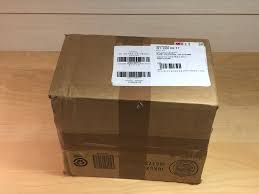undamaged: (46, 35, 218, 186)
